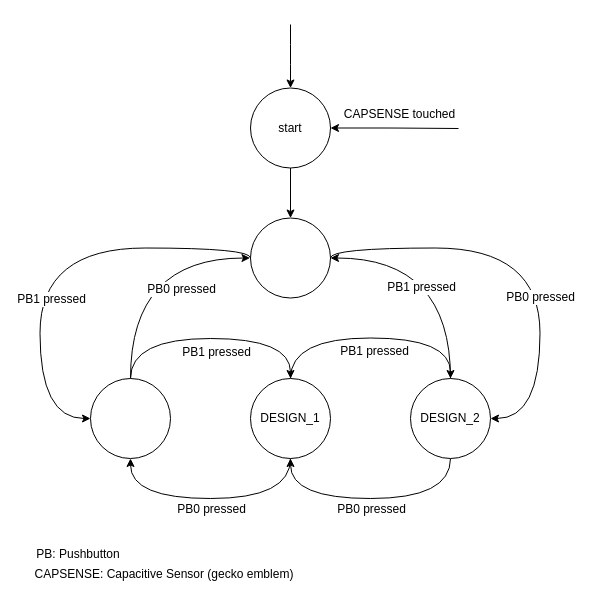
Image size: 592x602. Some labels were removed from this diagram. Each missing label, with the centre of its shape:
"DESIGN_0" belongs at point (130, 418).
"idle" belongs at point (290, 257).
